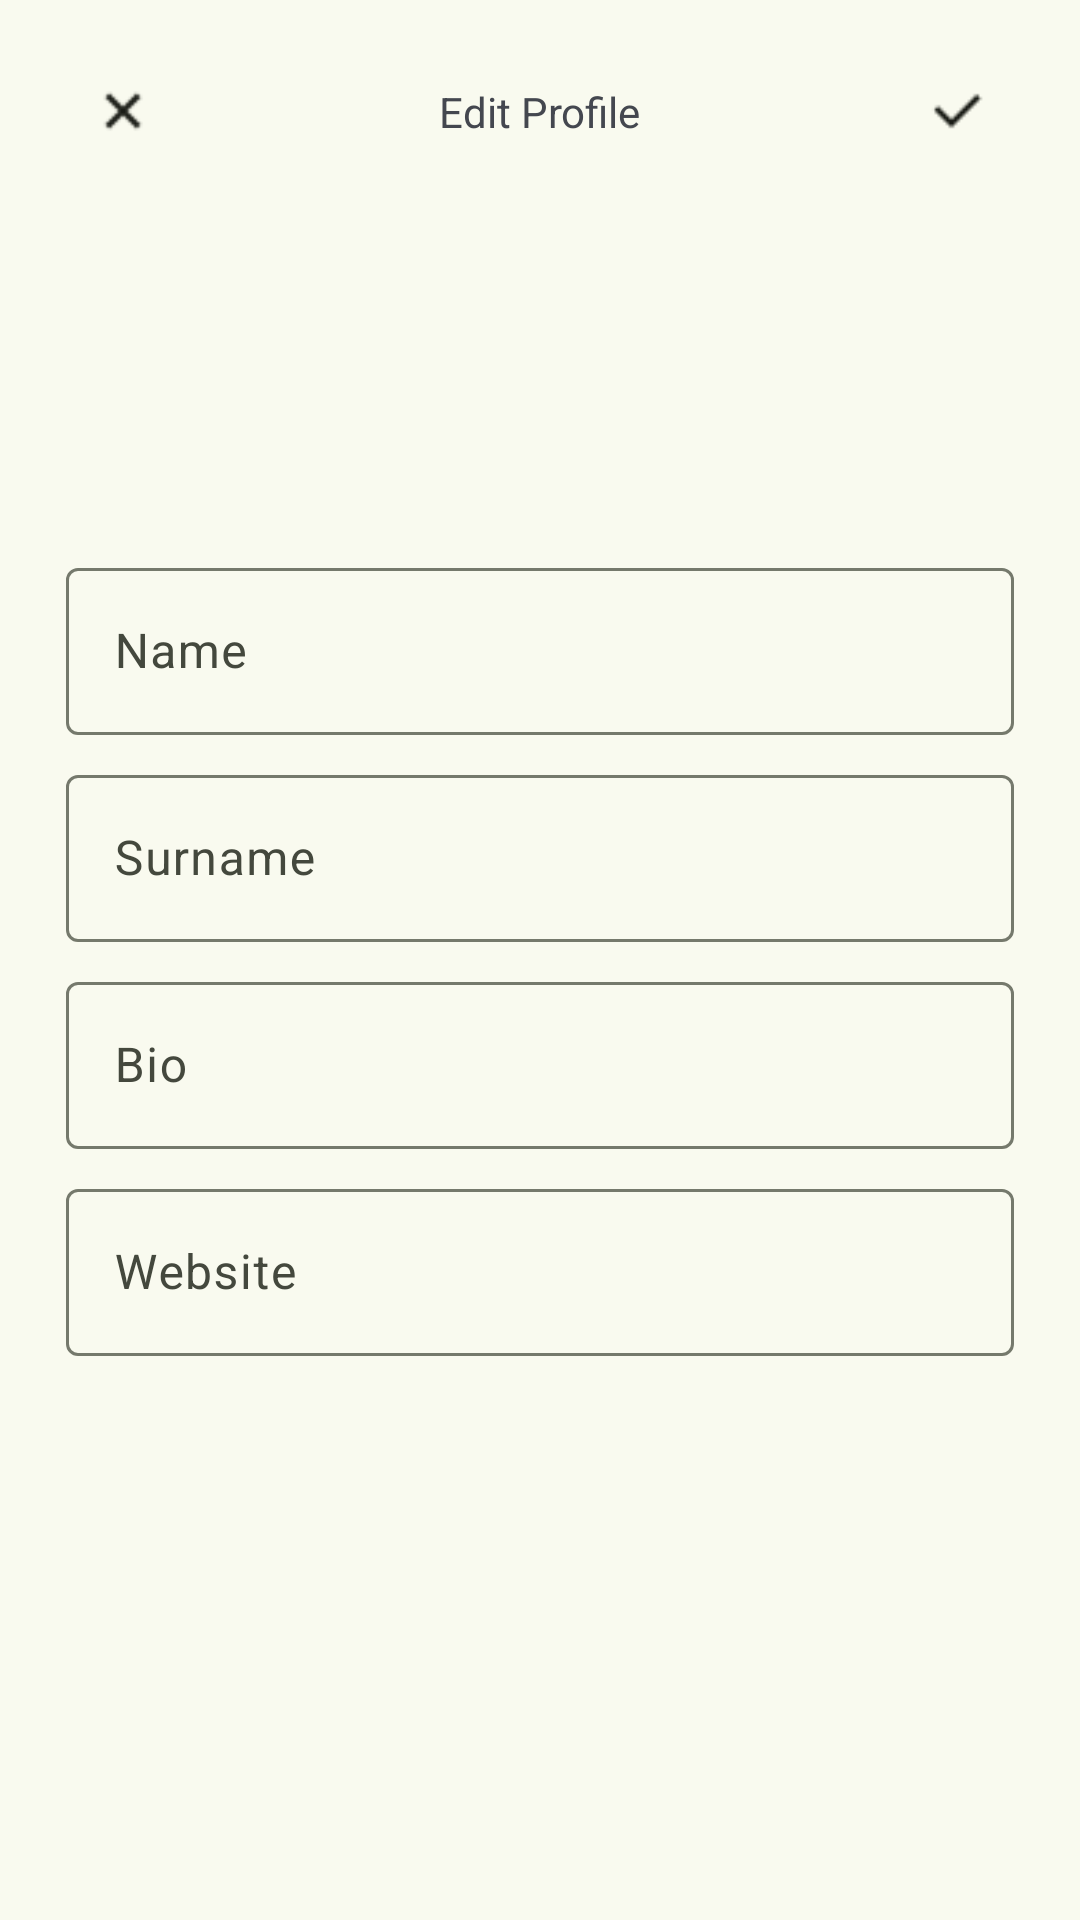

Icons on this 1080 × 1920 Android screen, each with the point to tap as (x=x, y=y):
Close: (x=123, y=111)
Done: (x=958, y=111)
